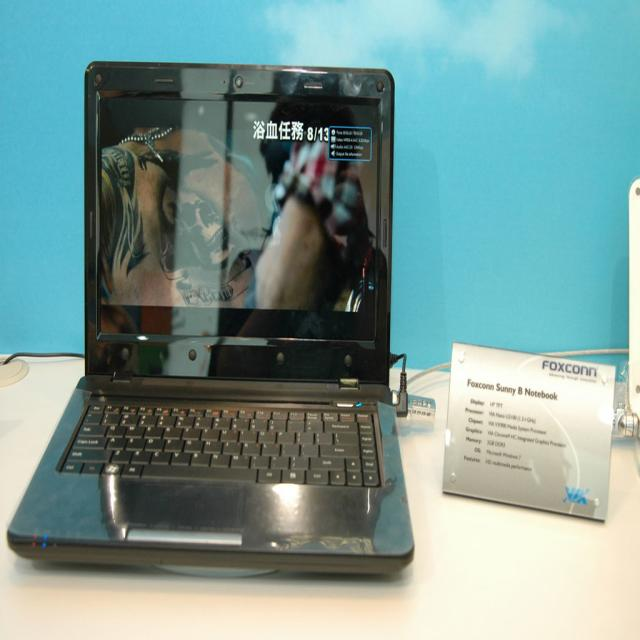Laptop: (35, 63, 422, 584)
